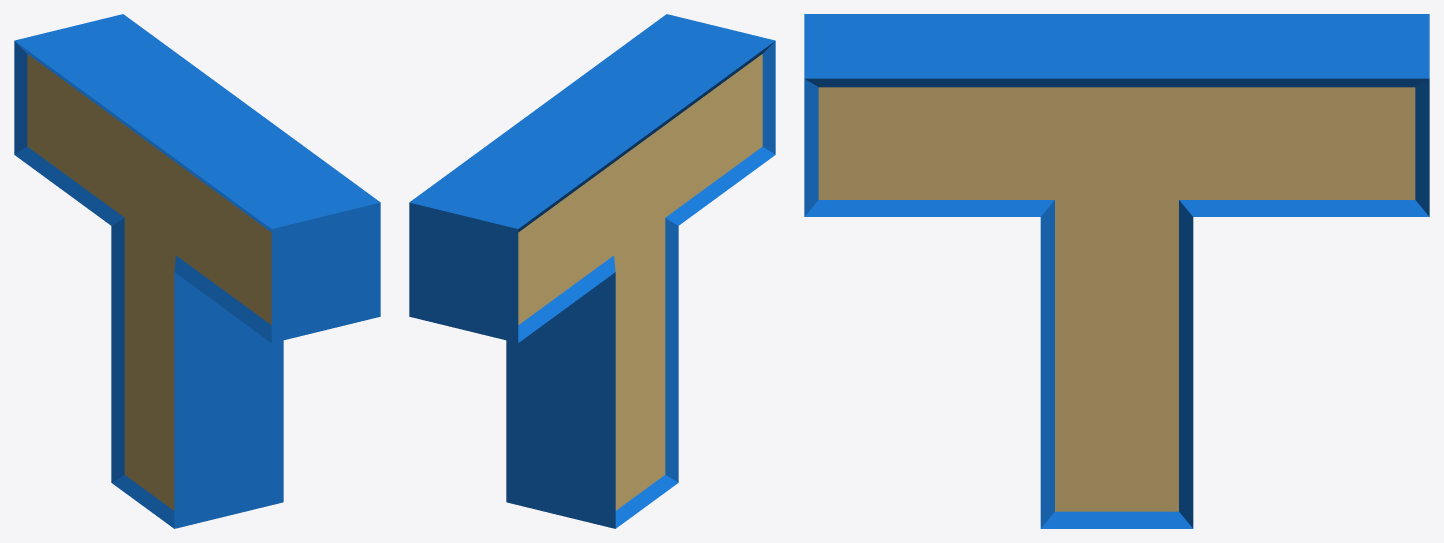
Rendered from modelT.fbx.
3 views of the same model, side by side, from view 1: azimuth 30°, elevation 25°; view 2: azimuth 150°, elevation 25°; view 3: azimuth 270°, elevation 25° (orthographic). The views are drawn at different scales.
Parts seen in each view (by area): view 1: Cube; view 2: Cube; view 3: Cube.
Part boxes in pixels (x1=…): Cube: x1=14, y1=14, x2=380, y2=528; Cube: x1=409, y1=14, x2=775, y2=528; Cube: x1=804, y1=14, x2=1429, y2=528.
Size of the model in its own units: 200 by 650 by 818.
